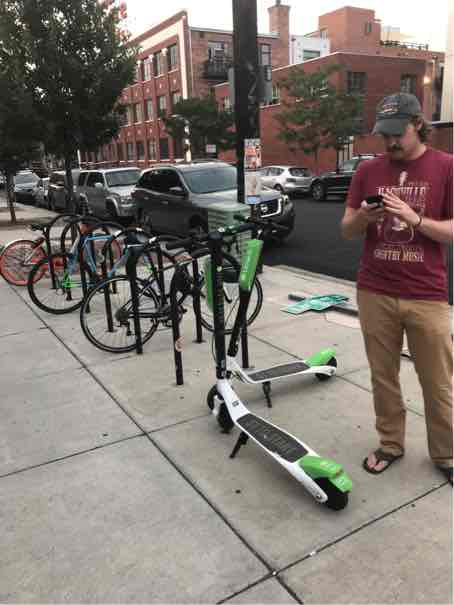scooter: (211, 210, 350, 464)
